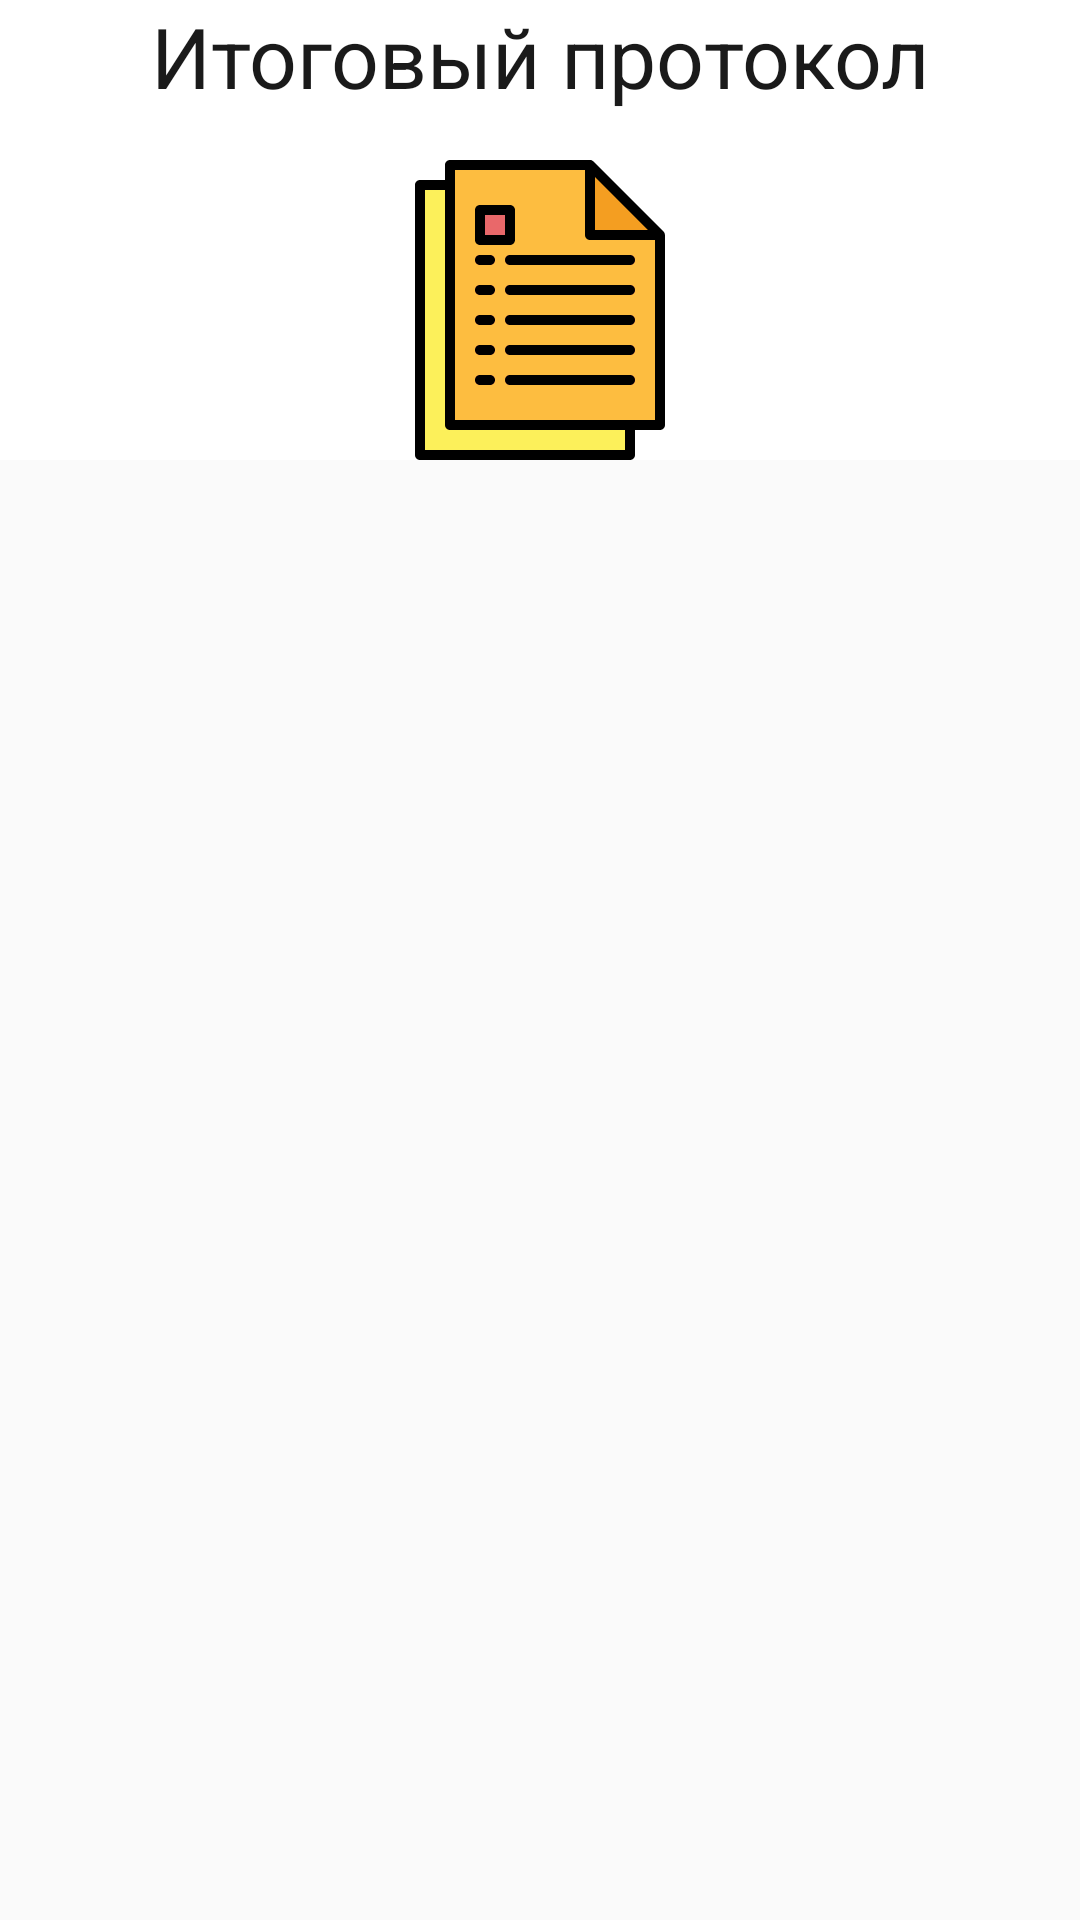

Icon bounding boxes for this 1080px x 1920px phone screenshot, format [x1,y1,x2,y2]:
document: [415,160,665,460]
